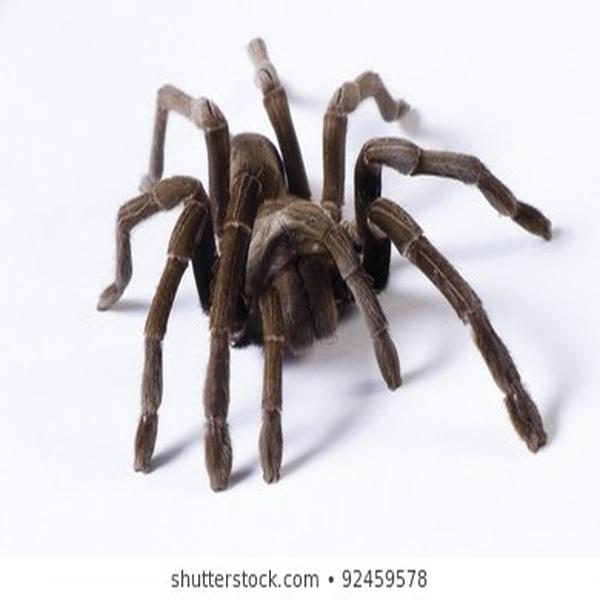Tarantula Spider: (108, 37, 545, 489)
